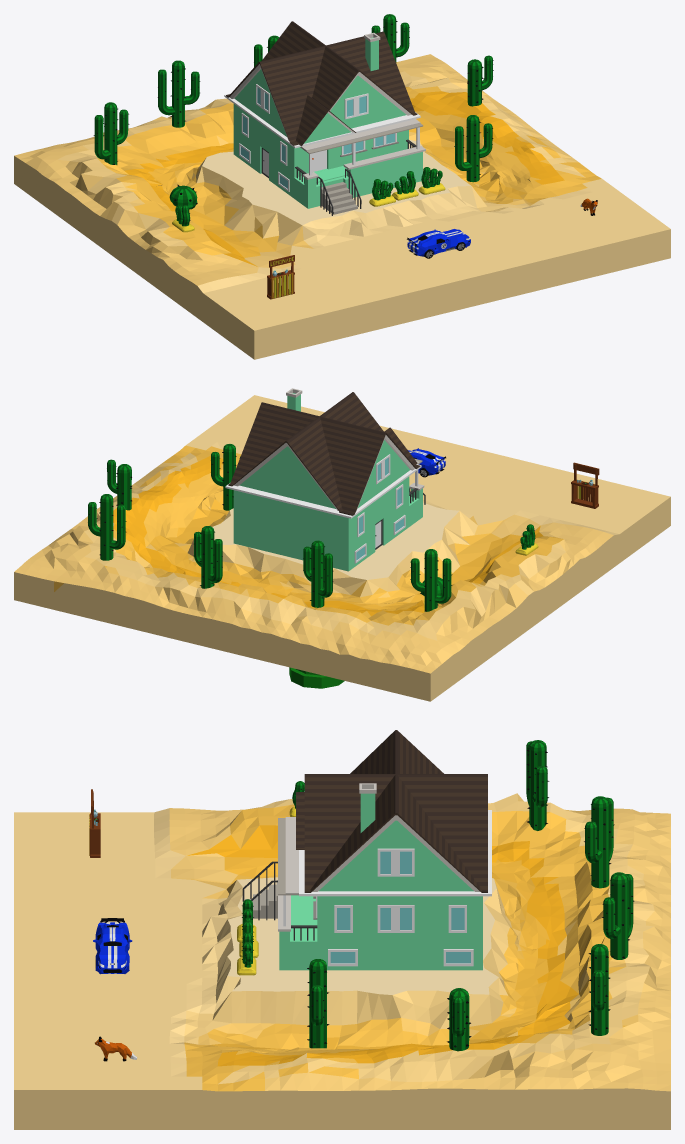
The picture shows the model from 3 angles, top to bottom: view 1: azimuth 30°, elevation 25°; view 2: azimuth 150°, elevation 25°; view 3: azimuth 270°, elevation 25°; orthographic projection. The views are drawn at different scales.
Visible parts, largest first — view 1: Cube.001, Cube.352, Cylinder.037, Cylinder.044, Cylinder.045, VEHICLES_RACING_CAR, Cylinder.038, OBJRANDOM_LEMONADE_STAND, Cylinder.042, Cylinder.039, Cylinder.041, Sphere.023 (+1 smaller); view 2: Cube.001, Cube.352, Cylinder.042, Cylinder.045, Cylinder.044, Cylinder.043, Cylinder.037, OBJRANDOM_LEMONADE_STAND, Cylinder.038, UNDERGROUND_PIPES, VEHICLES_RACING_CAR; view 3: Cube.001, Cube.352, Cylinder.043, Cylinder.044, VEHICLES_RACING_CAR, Cylinder.045, Cylinder.042, Cylinder.037, Cylinder.038, Cylinder.041, OBJRANDOM_LEMONADE_STAND.
Boxes of the visible parts, x1=… form: Cube.001: x1=14, y1=54, x2=670, y2=359; Cube.352: x1=224, y1=21, x2=425, y2=215; Cylinder.037: x1=454, y1=115, x2=493, y2=182; Cylinder.044: x1=157, y1=60, x2=200, y2=127; Cylinder.045: x1=93, y1=102, x2=129, y2=164; VEHICLES_RACING_CAR: x1=407, y1=229, x2=470, y2=258; Cylinder.038: x1=467, y1=55, x2=493, y2=106; OBJRANDOM_LEMONADE_STAND: x1=267, y1=255, x2=294, y2=299; Cylinder.042: x1=371, y1=14, x2=409, y2=62; Cylinder.039: x1=369, y1=179, x2=395, y2=206; Cylinder.041: x1=418, y1=167, x2=445, y2=194; Sphere.023: x1=169, y1=184, x2=197, y2=209; Cube.001: x1=14, y1=395, x2=670, y2=701; Cube.352: x1=225, y1=388, x2=425, y2=571; Cylinder.042: x1=88, y1=494, x2=126, y2=560; Cylinder.045: x1=410, y1=549, x2=452, y2=611; Cylinder.044: x1=303, y1=540, x2=333, y2=607; Cylinder.043: x1=193, y1=526, x2=222, y2=588; Cylinder.037: x1=211, y1=444, x2=240, y2=510; OBJRANDOM_LEMONADE_STAND: x1=571, y1=462, x2=599, y2=508; Cylinder.038: x1=107, y1=459, x2=131, y2=510; UNDERGROUND_PIPES: x1=289, y1=667, x2=344, y2=688; VEHICLES_RACING_CAR: x1=408, y1=448, x2=445, y2=477; Cube.001: x1=14, y1=793, x2=670, y2=1129; Cube.352: x1=242, y1=730, x2=491, y2=970; Cylinder.043: x1=602, y1=872, x2=634, y2=959; Cylinder.044: x1=584, y1=796, x2=614, y2=888; VEHICLES_RACING_CAR: x1=93, y1=918, x2=132, y2=974; Cylinder.045: x1=526, y1=740, x2=549, y2=830; Cylinder.042: x1=588, y1=944, x2=610, y2=1035; Cylinder.037: x1=307, y1=959, x2=329, y2=1048; Cylinder.038: x1=447, y1=988, x2=471, y2=1051; Cylinder.041: x1=237, y1=932, x2=256, y2=975; OBJRANDOM_LEMONADE_STAND: x1=89, y1=789, x2=100, y2=857.
Size of the model in its own units: 4002 by 2210 by 4001.
36 materials, 2 textured.
